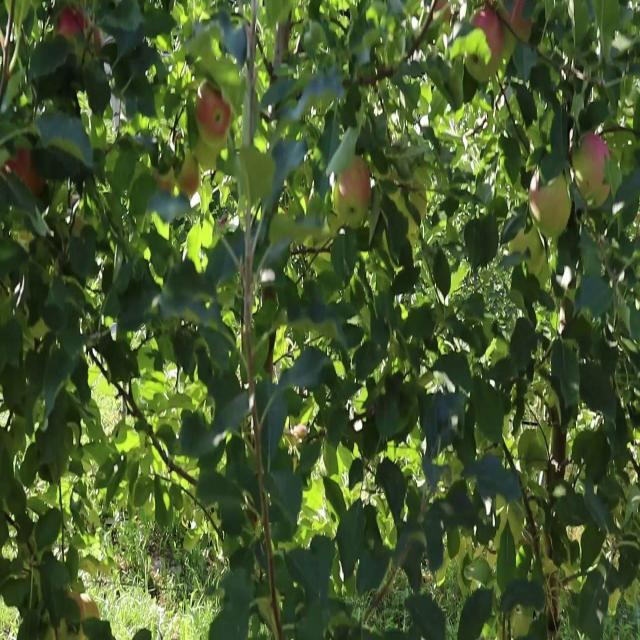apple: (572, 135, 612, 212), (532, 170, 573, 242), (336, 156, 373, 220), (196, 85, 232, 142), (4, 149, 45, 197), (472, 7, 504, 66), (508, 0, 534, 44), (56, 7, 86, 44), (180, 156, 201, 199), (156, 156, 176, 196), (432, 0, 453, 28), (88, 28, 105, 57)
